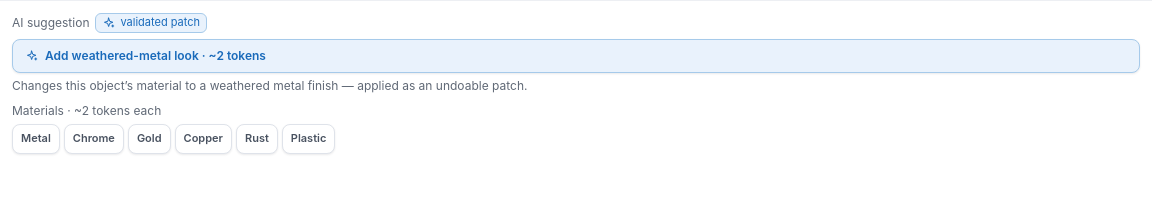
Test case: the confirm shows an explicit before → after (the entity's CURRENT material → weathered metal)
This screenshot has width=1152, height=217.
Click the button with test id "rustier": (131, 55) [12,39,1140,73]
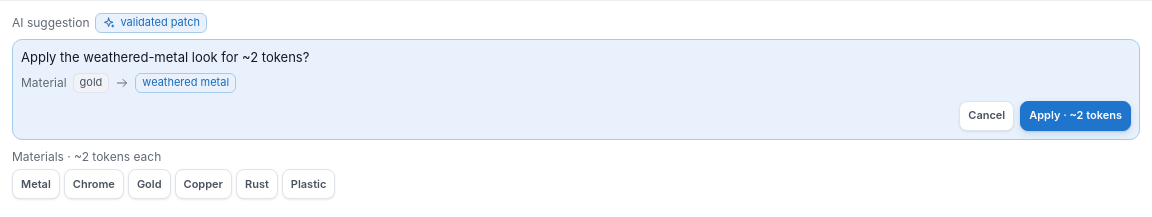
Expected: the element with test id "rustierConfirm" shows "gold", [80,75,102,89]
Expected: the element with test id "rustierConfirm" shows "weathered metal", [142,75,229,89]
